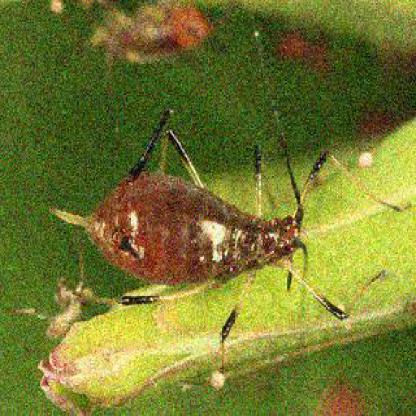uroleucon compositae: (49, 40, 305, 331)
